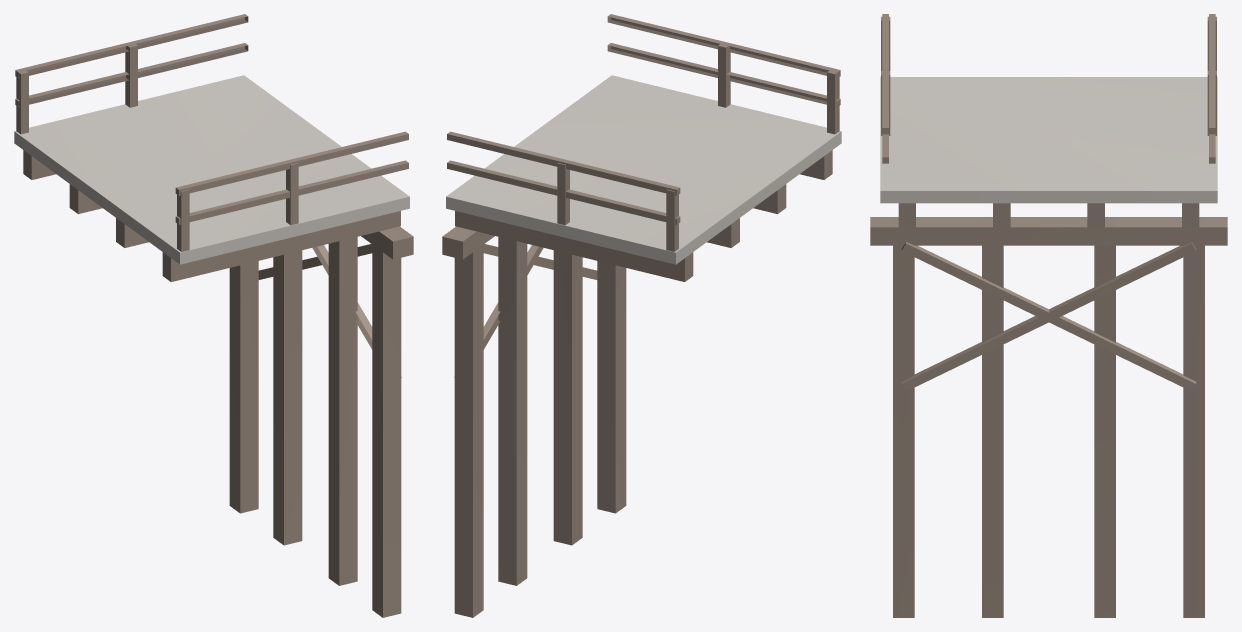
File: bridge_wood_bay_0.glb
The picture shows the model from 3 angles, left to right: view 1: azimuth 30°, elevation 25°; view 2: azimuth 150°, elevation 25°; view 3: azimuth 270°, elevation 25°; orthographic projection.
Parts seen in each view (by area): view 1: bridge_wood_bay_0; view 2: bridge_wood_bay_0; view 3: bridge_wood_bay_0.
Boxes of the visible parts, x1,y1,x2,y2 form: bridge_wood_bay_0: (14, 14, 413, 617); bridge_wood_bay_0: (442, 14, 841, 617); bridge_wood_bay_0: (870, 14, 1227, 617).
Size of the model in its own units: 4.04 by 8.03 by 5.3.
